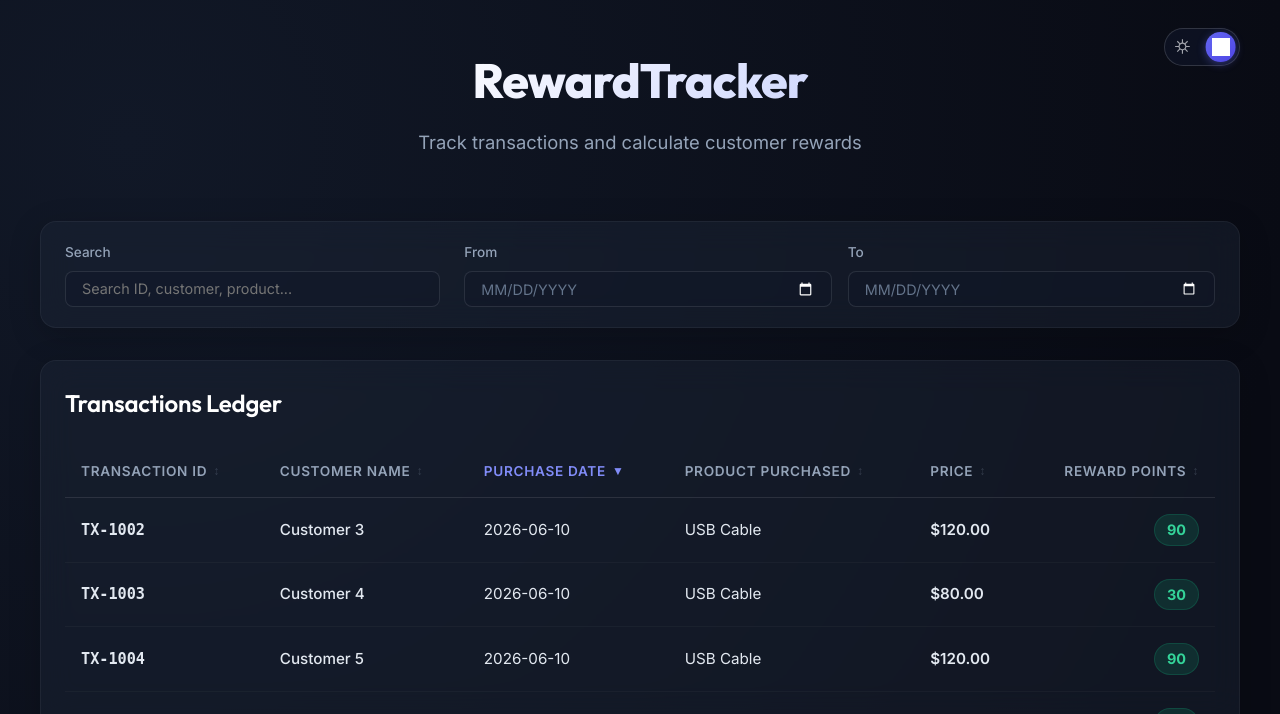
App Component Integrations › renders empty tables when selected date range contains no transactions
Type "2026-02-21" into the date field with test id "start-date-input" at (648, 289), box [464,271,832,307]
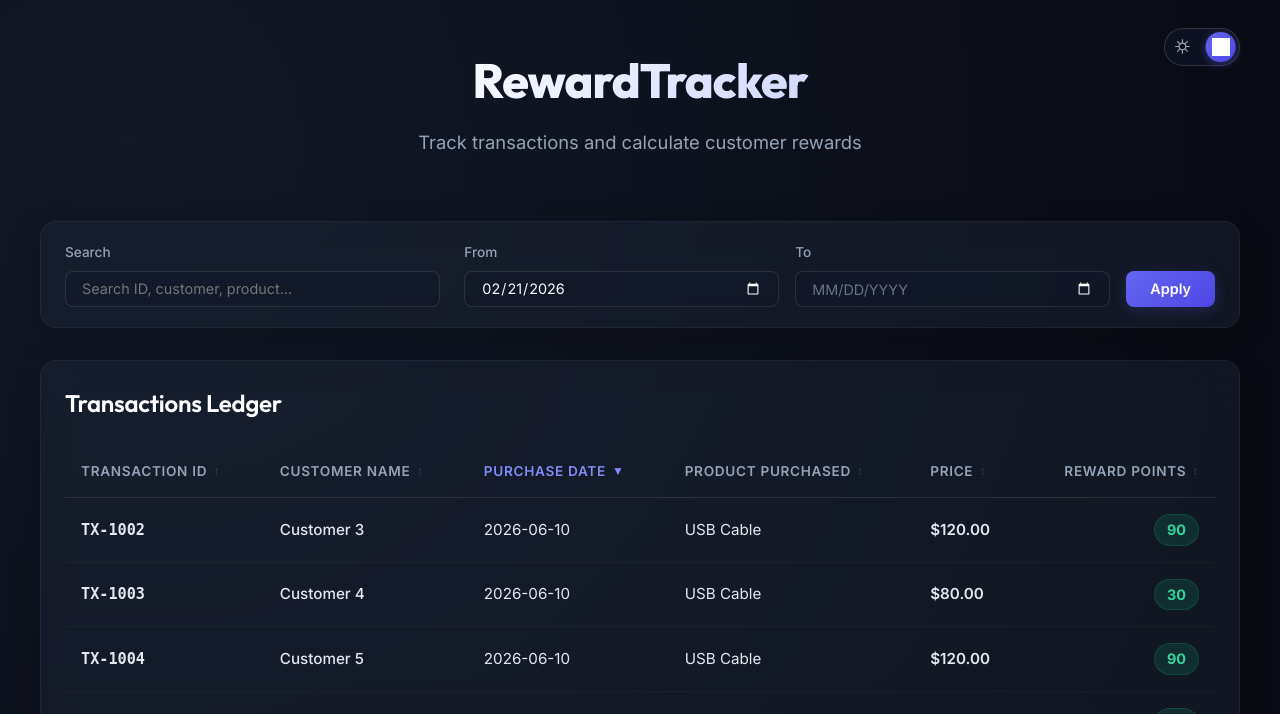
Type "2026-02-25" into the date field with test id "end-date-input" at (953, 289), box [795,271,1110,307]
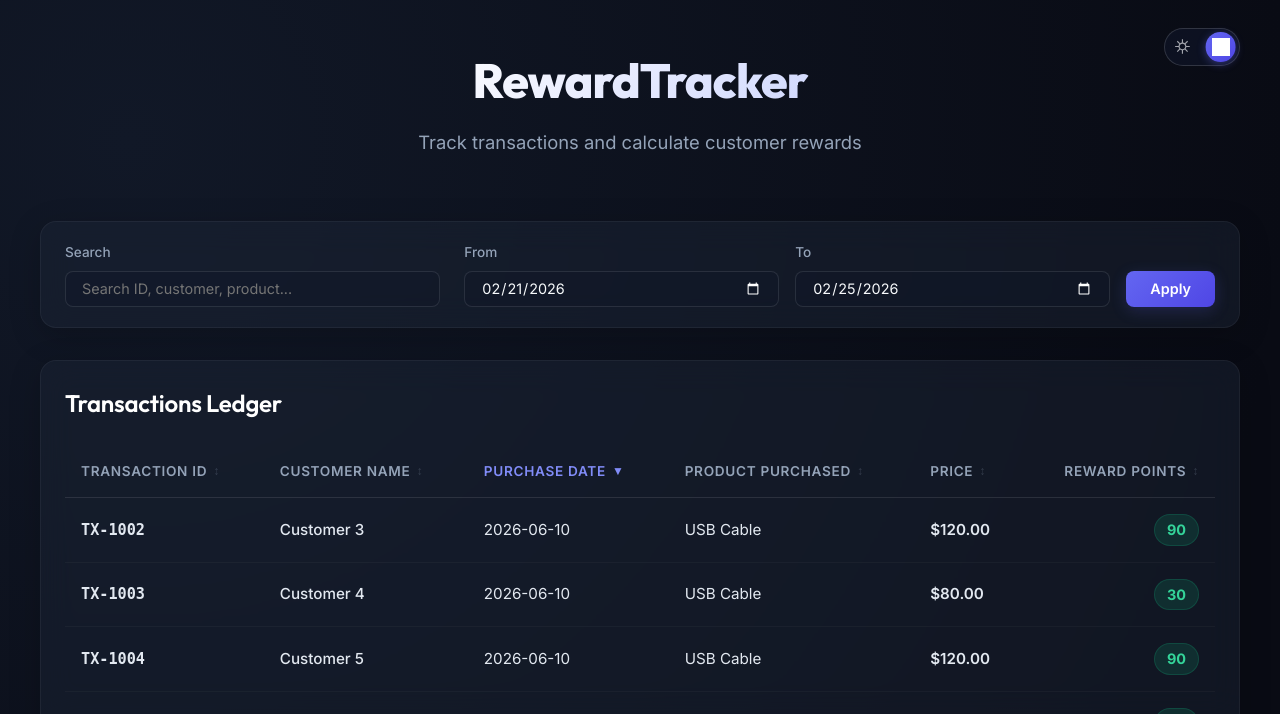
Click the button with test id "apply-filters-btn" at (1171, 289), box [1126,271,1215,307]
(page scrolled)
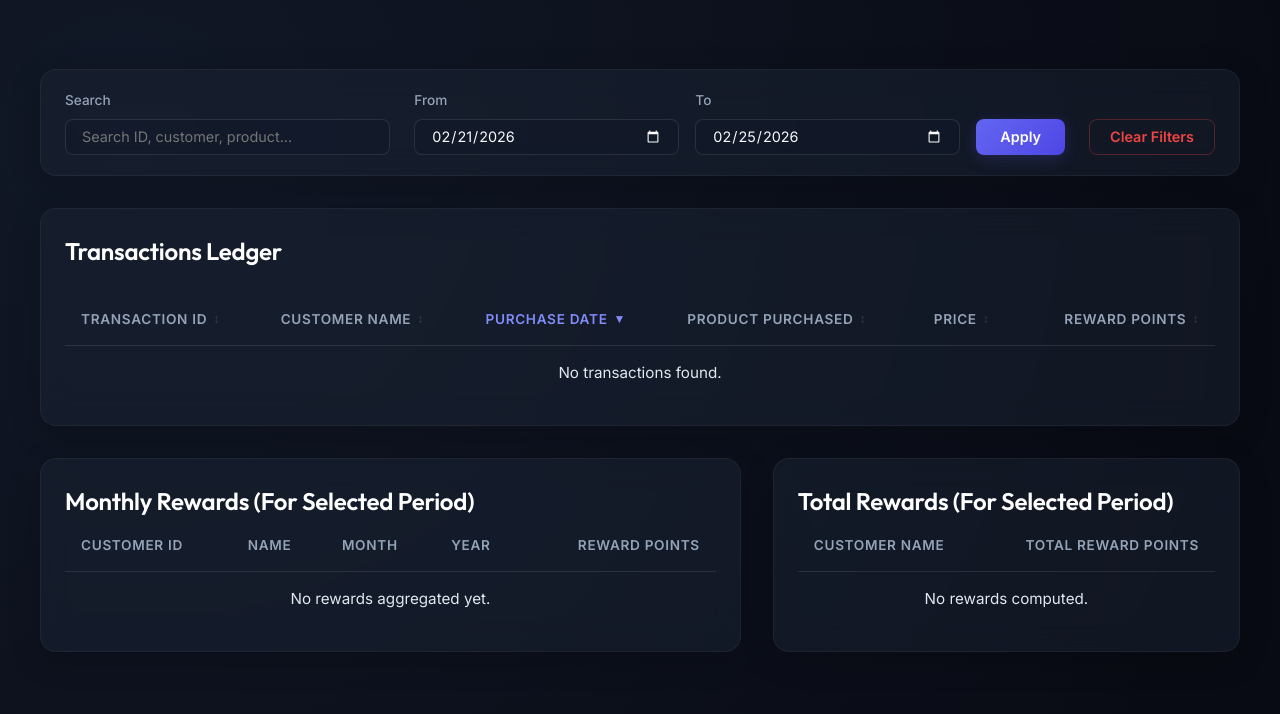
Expected: the cell with test id "empty-cell" reads "No transactions found.", [558,363,722,382]
Expected: the text "No rewards aggregated yet." is shown, [65,572,716,627]
Expected: the text "No rewards computed." is shown, [798,572,1215,627]
